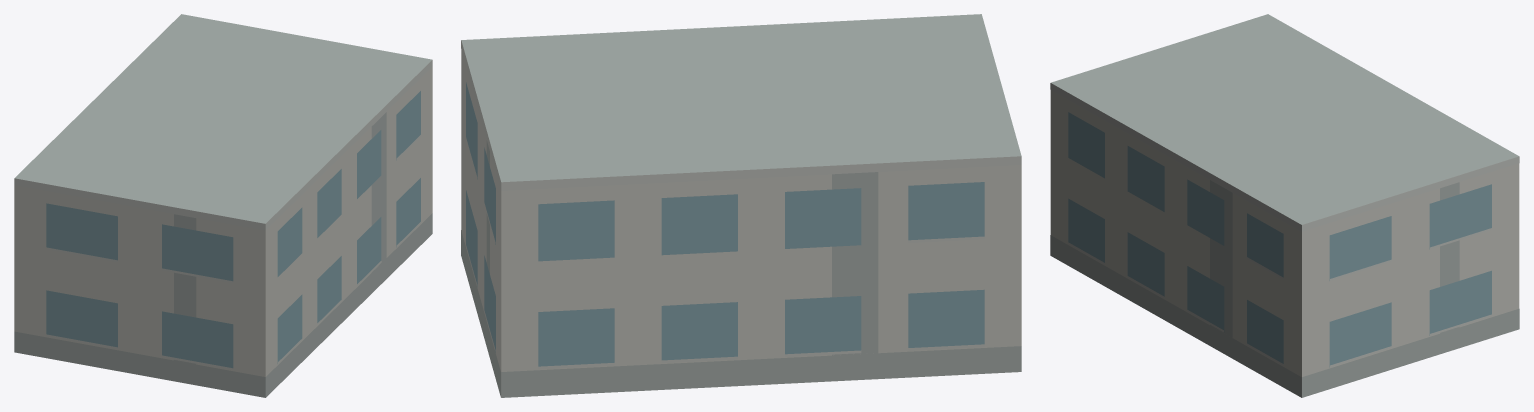
Rendered from residential-70ab07fa-ee38-4d99-a2da-9e34510c43b2.glb.
3 renders of one model, left to right at view 1: azimuth 30°, elevation 25°; view 2: azimuth 150°, elevation 25°; view 3: azimuth 270°, elevation 25°, orthographic. The views are drawn at different scales.
Visible parts, largest first — view 1: residential-70ab07fa-ee38-4d99-a2da-9e34510c43b2.tmp; view 2: residential-70ab07fa-ee38-4d99-a2da-9e34510c43b2.tmp; view 3: residential-70ab07fa-ee38-4d99-a2da-9e34510c43b2.tmp.
Part boxes in pixels (x1,y1,x2,y2): residential-70ab07fa-ee38-4d99-a2da-9e34510c43b2.tmp: [14, 14, 432, 397]; residential-70ab07fa-ee38-4d99-a2da-9e34510c43b2.tmp: [461, 14, 1021, 397]; residential-70ab07fa-ee38-4d99-a2da-9e34510c43b2.tmp: [1050, 14, 1519, 397].
Size of the model in its own units: 15.97 by 6.1 by 15.
